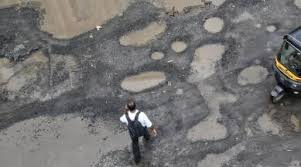potholes: (138, 38, 197, 60)
